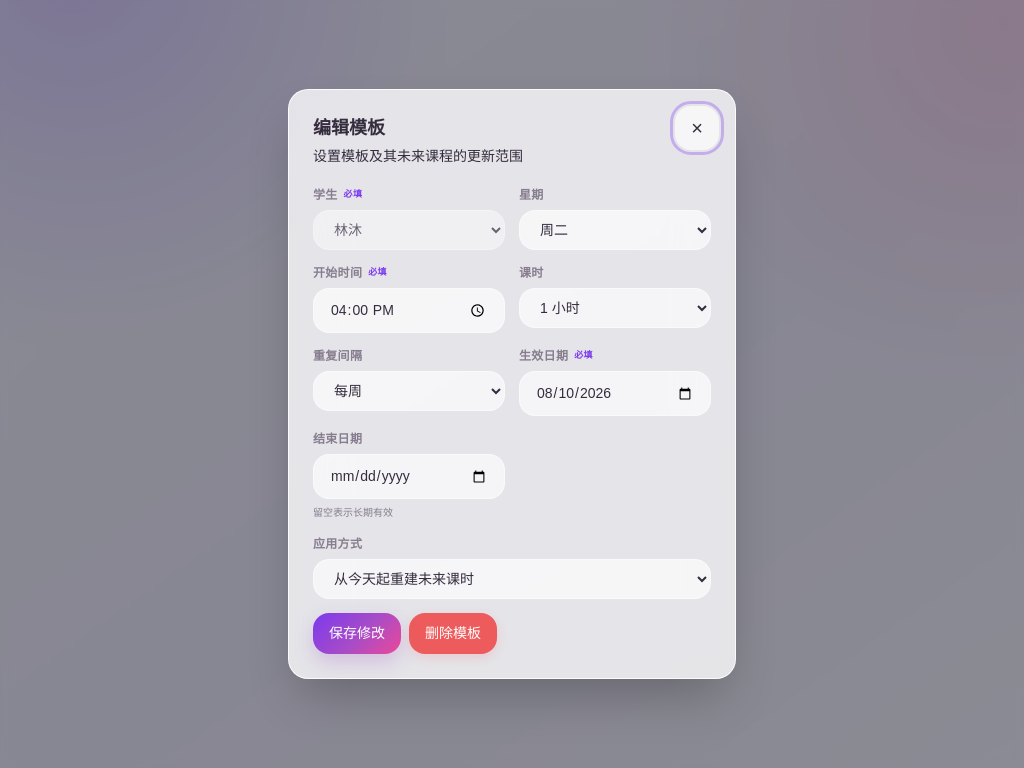
Test case: TemplateFormModal › explains future lesson impact before deleting
Click the button "删除模板". click: click(453, 634)
box: [409,613,497,654]
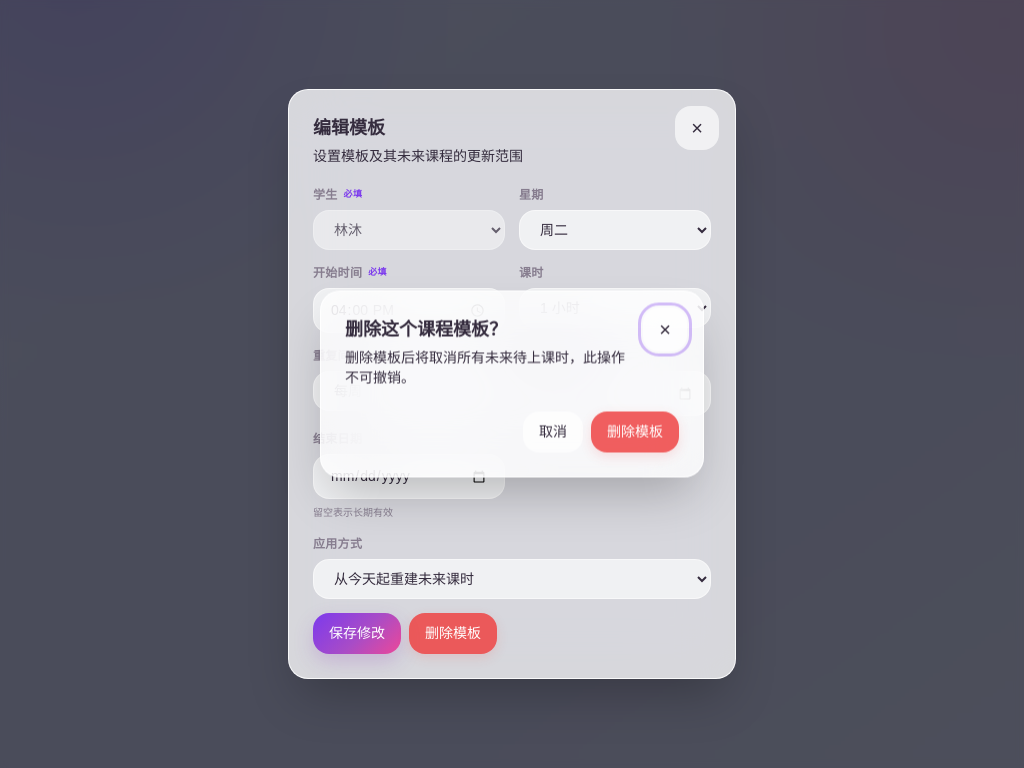
Expected: the text "取消所有未来待上课时" is shown, [345,350,625,386]
